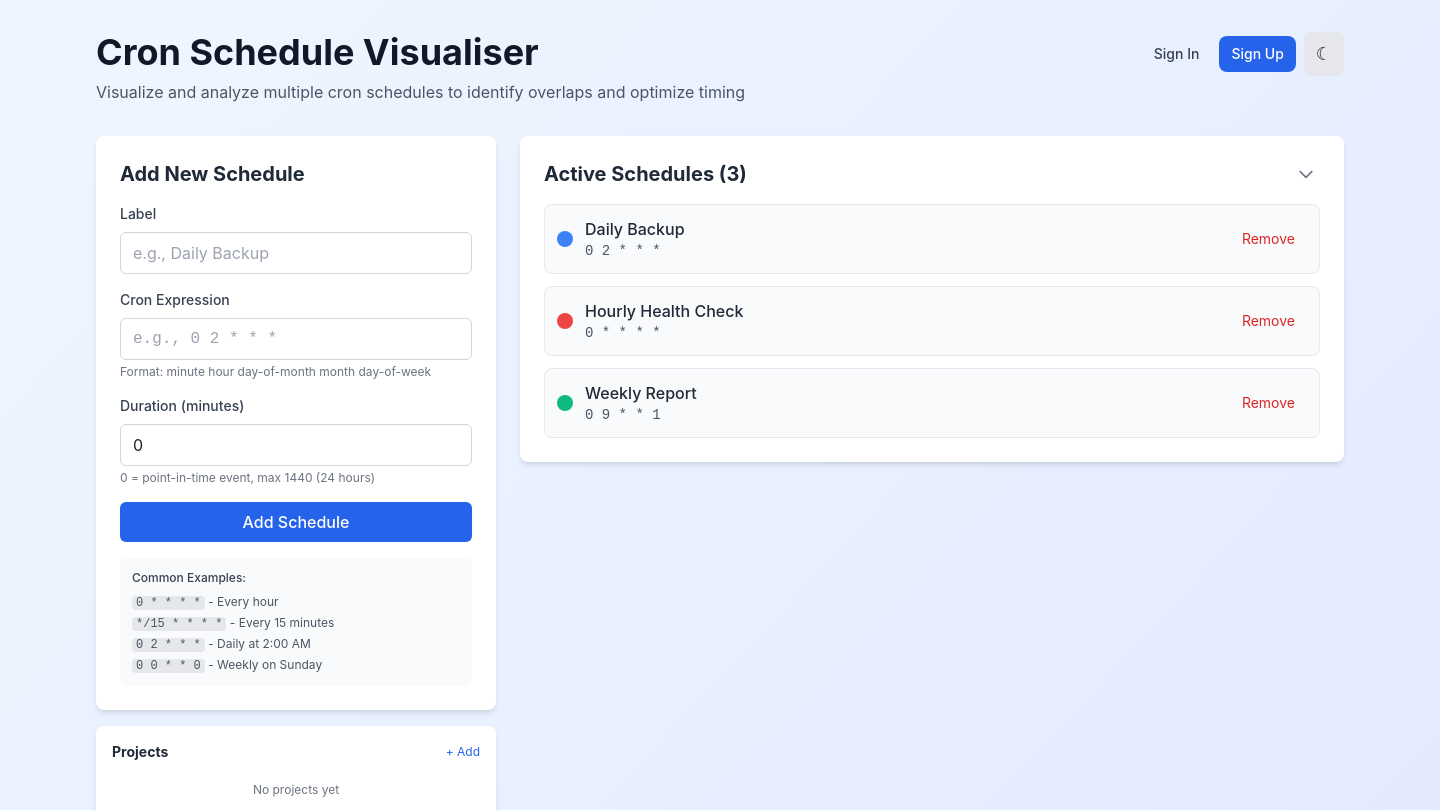
Scenario: App Integration Tests › Removing Schedules › should remove a schedule when remove button is clicked
Check: the text "Daily Backup" is shown, box [585,219,685,239]
Click the 1st button "Remove": point(1268, 239) [1230,225,1307,253]
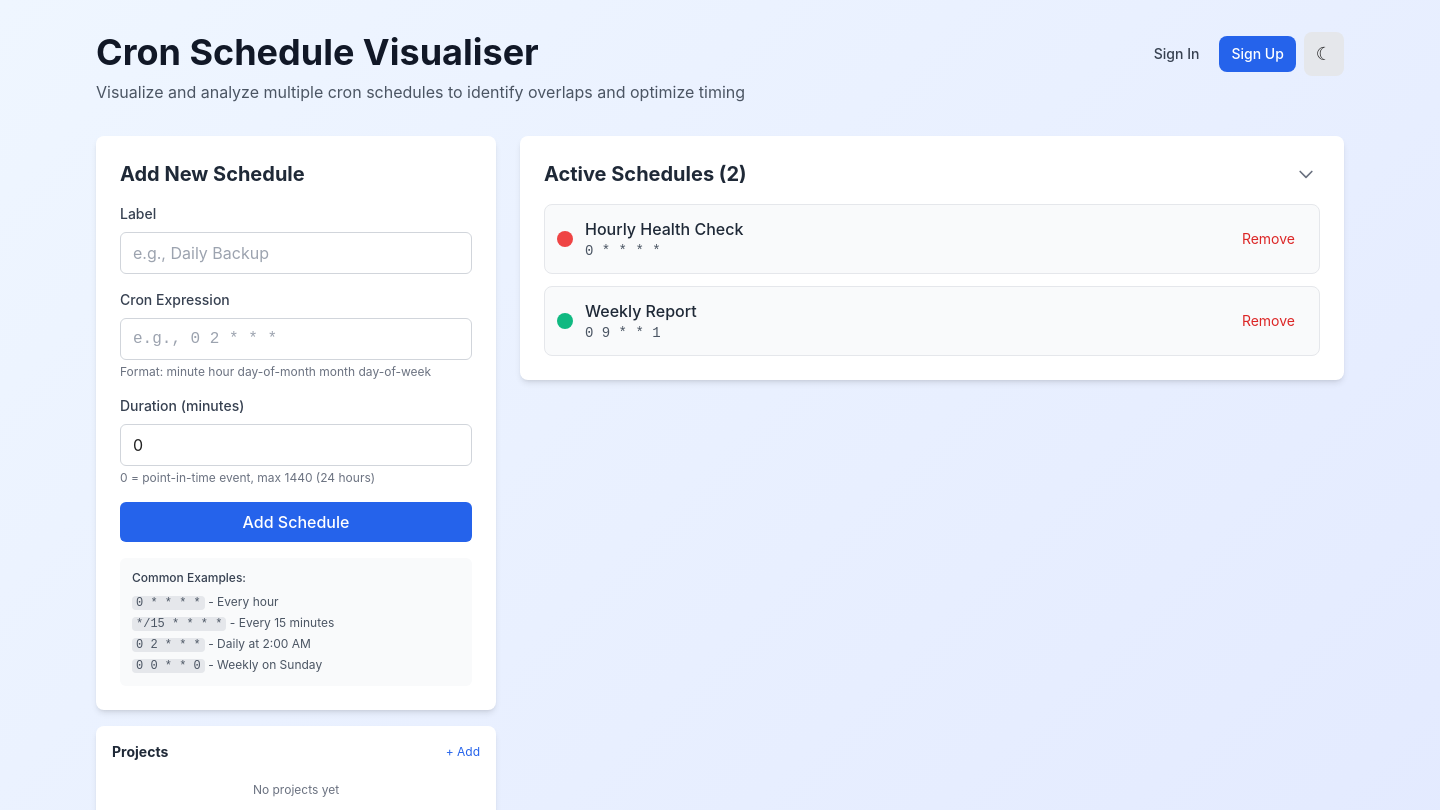
Check: the heading "Active Schedules (2)" is shown, box [544,160,746,188]
